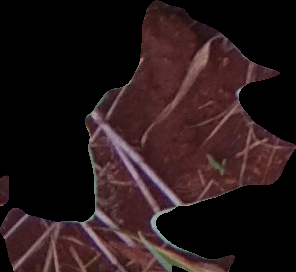soil: (4, 4, 292, 269)
